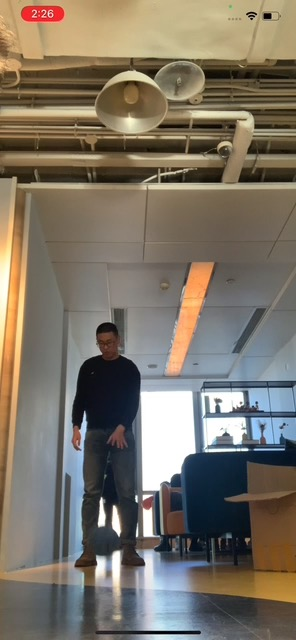ball: (89, 526, 119, 556)
